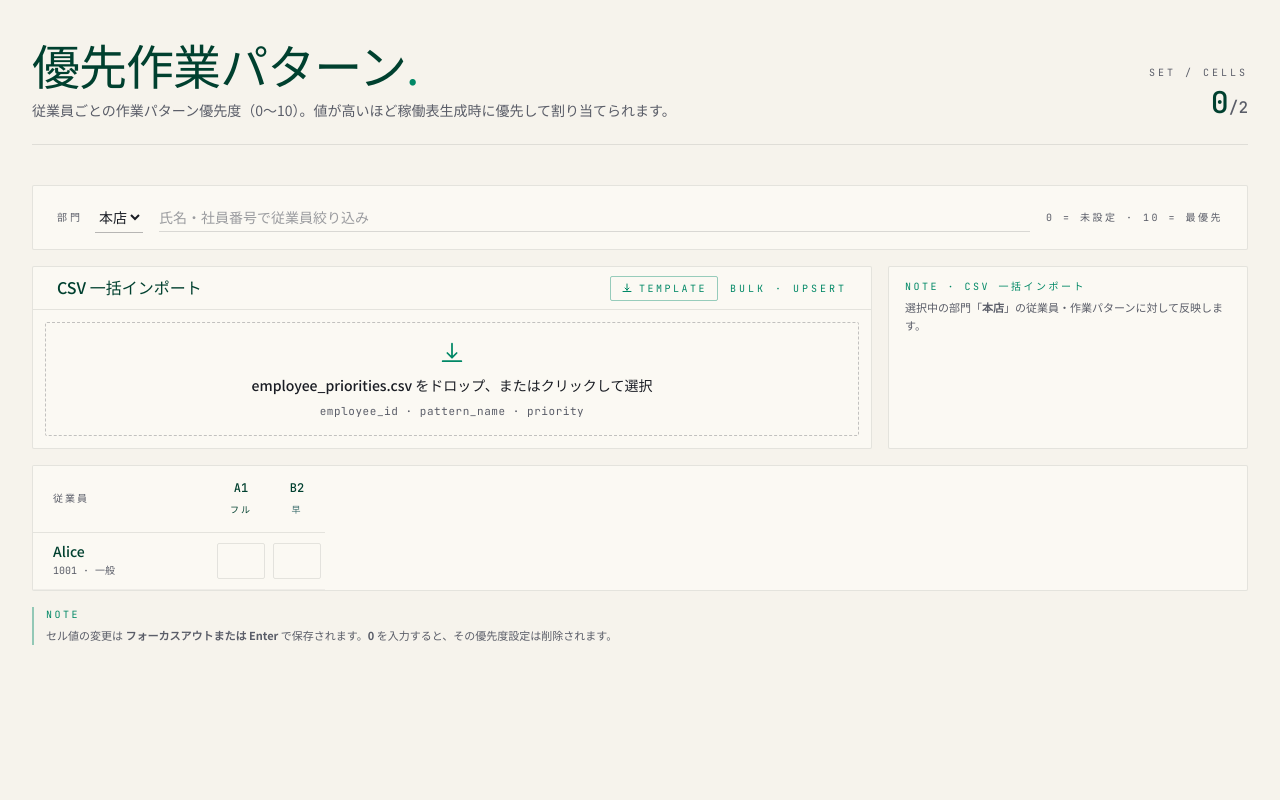
Scenario: EmployeePrioritiesPage — initial render › shows no-employees message when filter excludes all
The image size is (1280, 800).
Expected: the text "Alice" is shown, [53,541,85,561]
Type "NoMatch" into the field with placeholder "氏名・社員番号で従業員絞り込み" at (594, 218), box [159,203,1030,232]
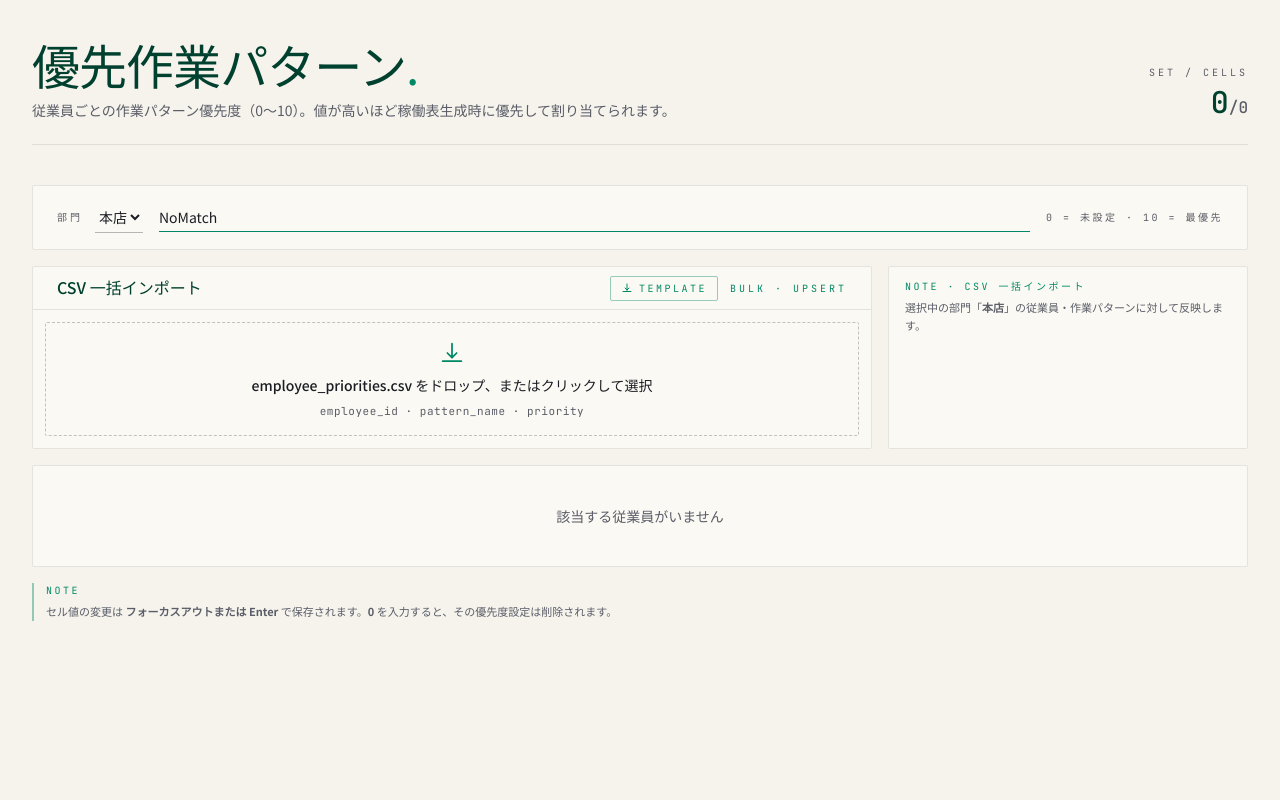
Expected: the text "該当する従業員がいません" is shown, [556,506,724,526]
